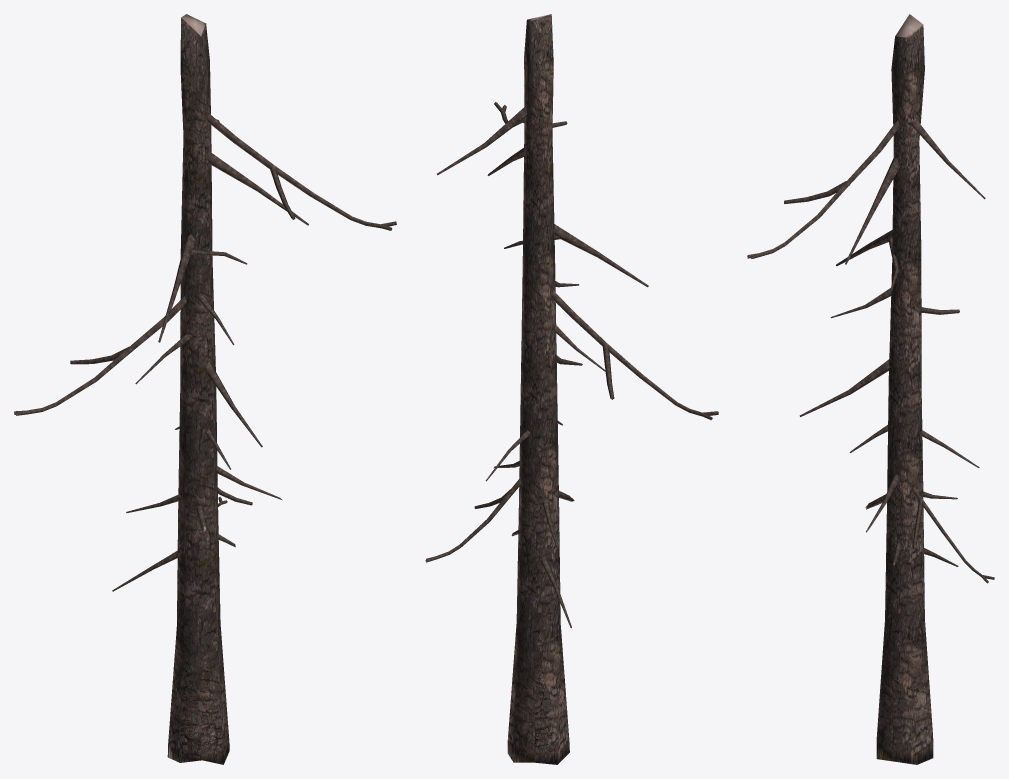
Rendered from A_Coniferous Dead Tree 2_14.glb.
3 views of the same model, side by side, from view 1: azimuth 30°, elevation 25°; view 2: azimuth 150°, elevation 25°; view 3: azimuth 270°, elevation 25° (orthographic).
Visible parts, largest first — view 1: Coniferous Dead Tree 2_14; view 2: Coniferous Dead Tree 2_14; view 3: Coniferous Dead Tree 2_14.
Part boxes in pixels (<box>): Coniferous Dead Tree 2_14: <box>14,14,396,764</box>; Coniferous Dead Tree 2_14: <box>425,14,718,764</box>; Coniferous Dead Tree 2_14: <box>747,14,994,764</box>.
Size of the model in its own units: 4.16 by 9.77 by 3.
1 material, 1 textured.
